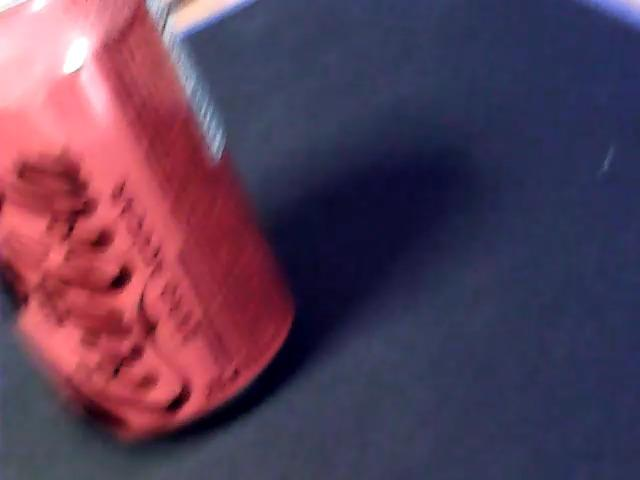coke: (0, 0, 305, 438)
